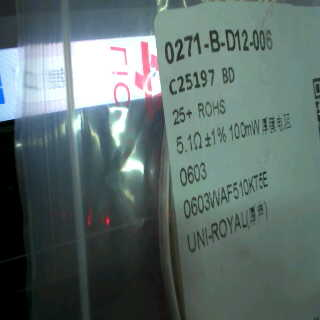5.1R: (175, 129, 204, 156)
